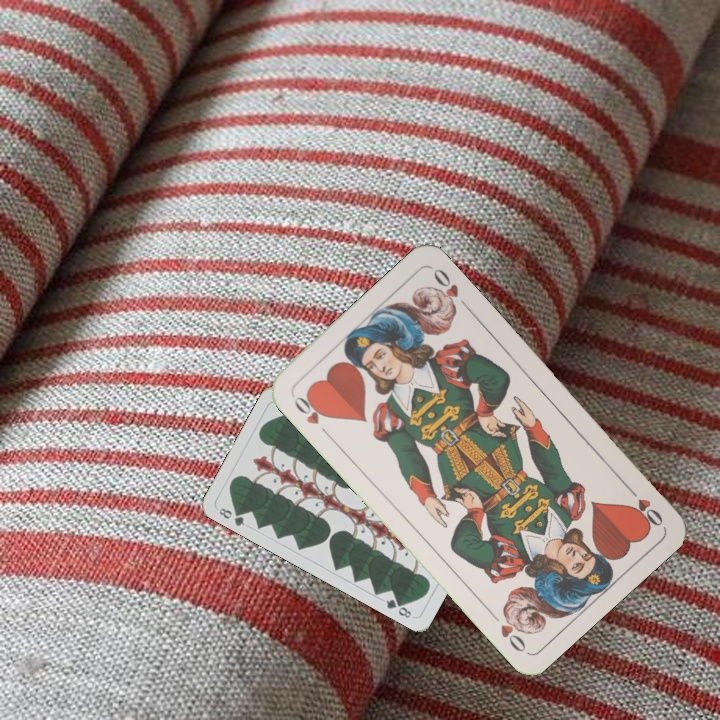G8: (215, 504, 247, 529)
HO: (288, 389, 333, 439), (621, 481, 666, 530)
